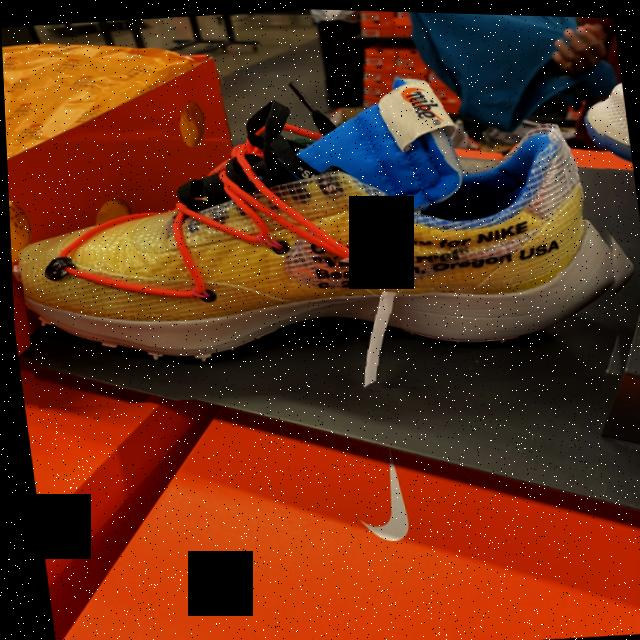shoe: (1, 36, 638, 422)
